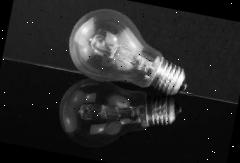lightbulb: (61, 2, 198, 99), (52, 72, 184, 162)
